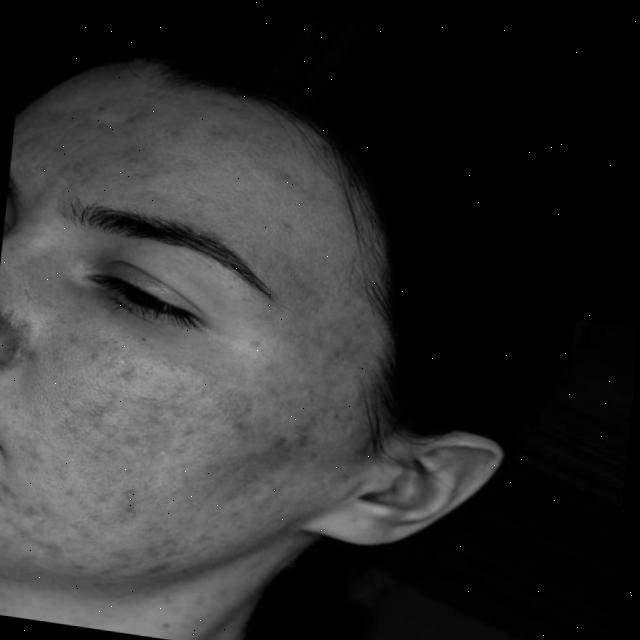Rosacea: (0, 318, 335, 616), (118, 102, 269, 223)
